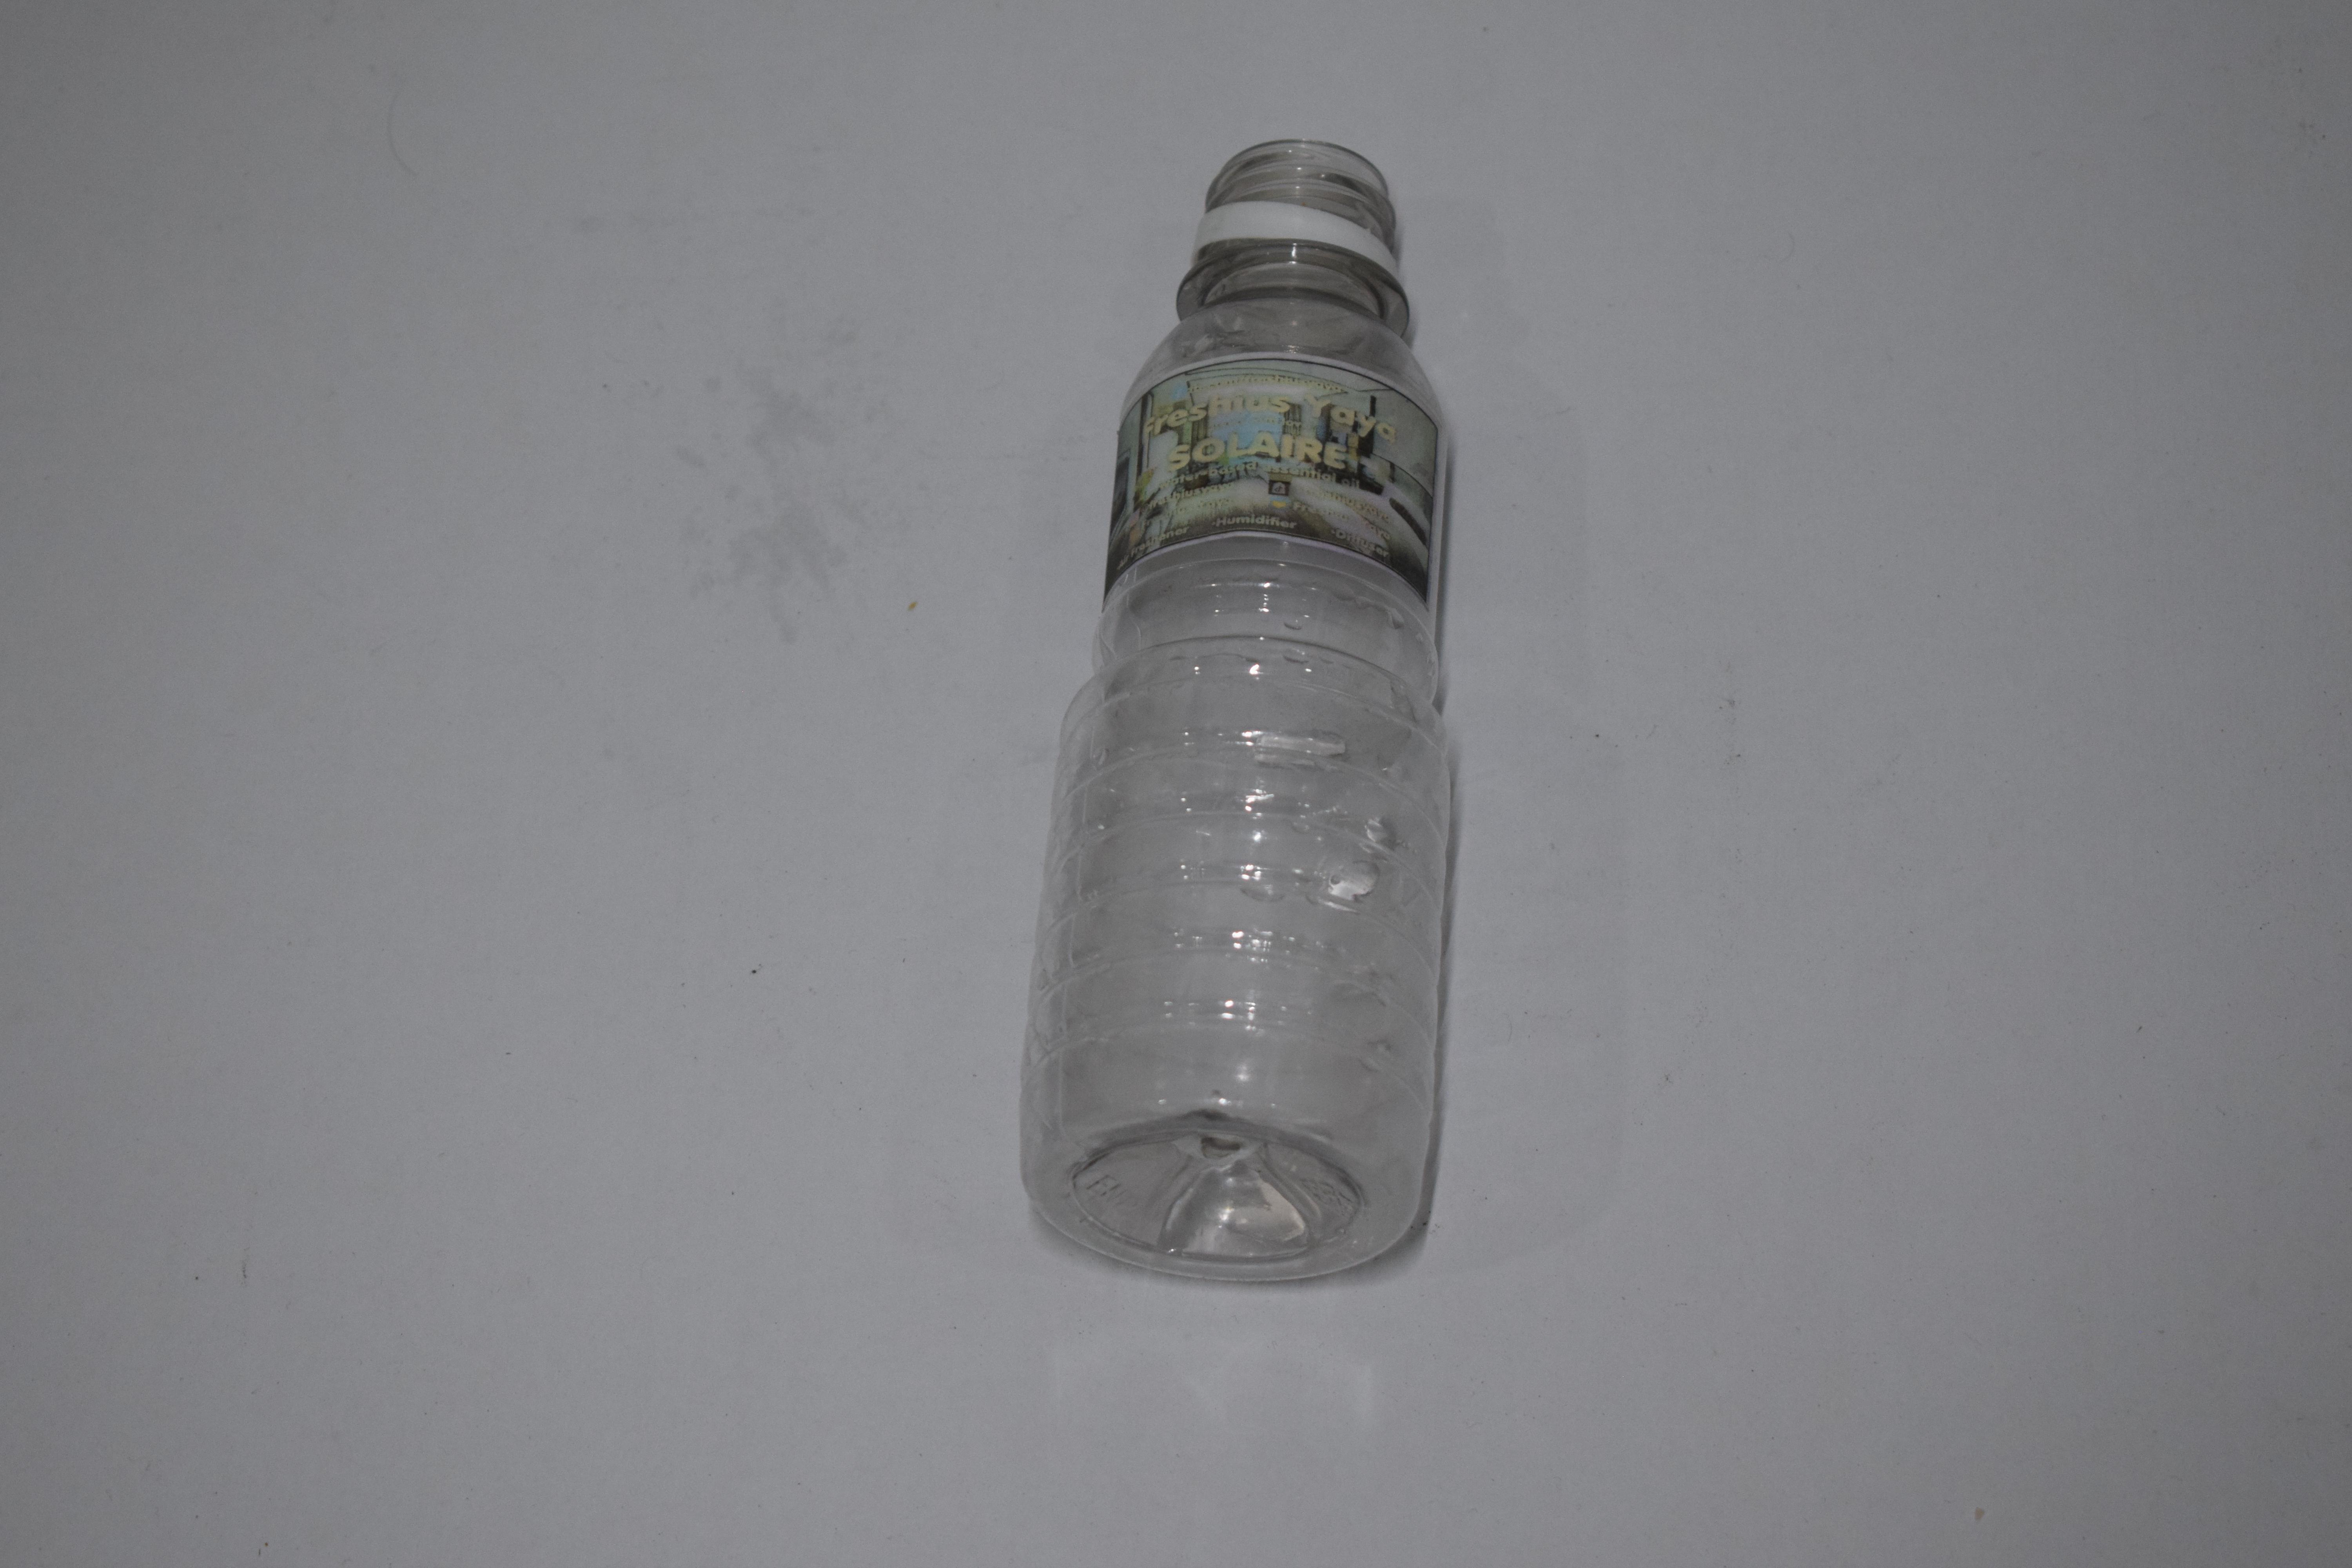bottle: (0, 47, 289, 1208)
